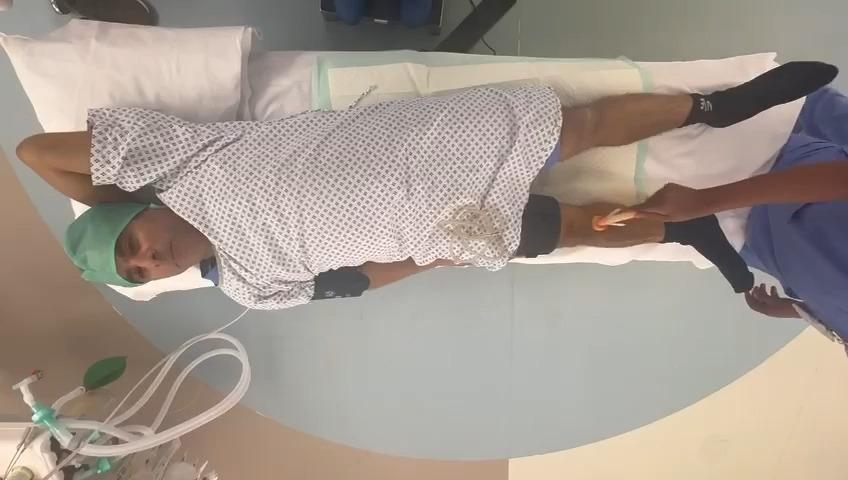patient: (18, 63, 835, 310)
prepstick: (593, 209, 638, 231)
tourniquet: (515, 194, 561, 258)
